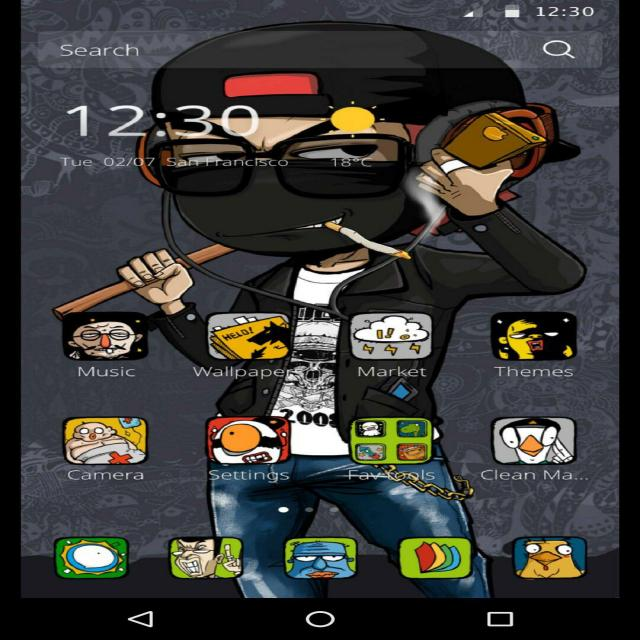button: (37, 305, 592, 484), (35, 519, 610, 586), (40, 32, 603, 75), (256, 502, 362, 517)
icon: (51, 315, 582, 472), (46, 532, 587, 584), (302, 99, 411, 143)
image: (27, 7, 620, 599)
text: (34, 88, 278, 145), (34, 151, 304, 173), (444, 4, 614, 22), (51, 38, 153, 65), (318, 152, 385, 173)
